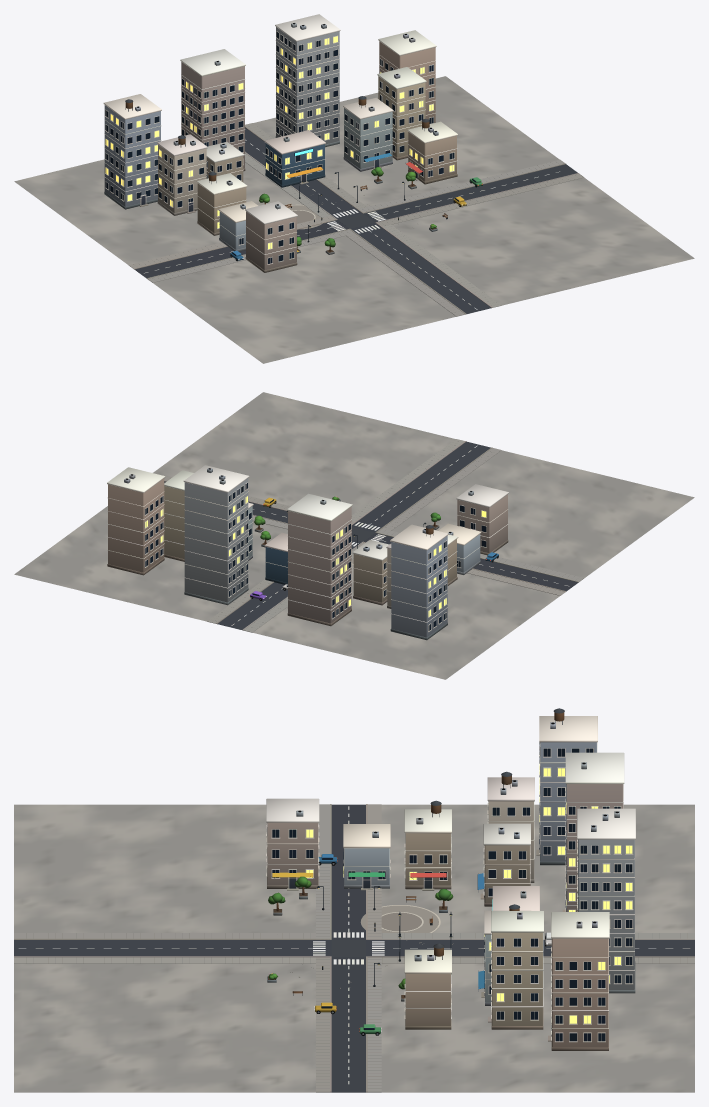
File: journey_city.glb
3 views of the same model, one above another, from view 1: azimuth 30°, elevation 25°; view 2: azimuth 150°, elevation 25°; view 3: azimuth 270°, elevation 25° (orthographic). The views are drawn at different scales.
Parts seen in each view (by area): view 1: Scenery_city_Journey Ground, Scenery_city_Journey Plaster, Scenery_city_Journey Stone, Scenery_city_Journey Paint, Scenery_city_Journey Glass, Scenery_city_Journey Glow warm, Scenery_city_Journey Steel; view 2: Scenery_city_Journey Ground, Scenery_city_Journey Plaster, Scenery_city_Journey Stone, Scenery_city_Journey Paint, Scenery_city_Journey Glass, Scenery_city_Journey Glow warm; view 3: Scenery_city_Journey Ground, Scenery_city_Journey Stone, Scenery_city_Journey Plaster, Scenery_city_Journey Paint, Scenery_city_Journey Glass, Scenery_city_Journey Glow warm, Scenery_city_Journey Steel, Scenery_city_Journey Fabric, Scenery_city_Journey Foliage.
Boxes of the visible parts, <box> form: Scenery_city_Journey Ground: <box>14,76,694,363</box>; Scenery_city_Journey Plaster: <box>104,27,456,270</box>; Scenery_city_Journey Stone: <box>103,14,584,316</box>; Scenery_city_Journey Paint: <box>105,31,559,309</box>; Scenery_city_Journey Glass: <box>105,32,476,263</box>; Scenery_city_Journey Glow warm: <box>105,36,454,249</box>; Scenery_city_Journey Steel: <box>125,22,475,260</box>; Scenery_city_Journey Ground: <box>14,392,694,679</box>; Scenery_city_Journey Plaster: <box>108,478,507,637</box>; Scenery_city_Journey Stone: <box>107,439,584,640</box>; Scenery_city_Journey Paint: <box>144,445,569,631</box>; Scenery_city_Journey Glass: <box>145,483,496,630</box>; Scenery_city_Journey Glow warm: <box>145,496,486,616</box>; Scenery_city_Journey Ground: <box>14,804,694,1092</box>; Scenery_city_Journey Stone: <box>14,716,694,1092</box>; Scenery_city_Journey Plaster: <box>267,742,634,1047</box>; Scenery_city_Journey Paint: <box>19,742,689,1084</box>; Scenery_city_Journey Glass: <box>272,742,632,1041</box>; Scenery_city_Journey Glow warm: <box>306,764,632,1023</box>; Scenery_city_Journey Steel: <box>271,708,619,1034</box>; Scenery_city_Journey Fabric: <box>272,872,484,989</box>; Scenery_city_Journey Foliage: <box>268,876,453,989</box>.
Bounding box in the file's own units: 120 × 31.19 × 120.
